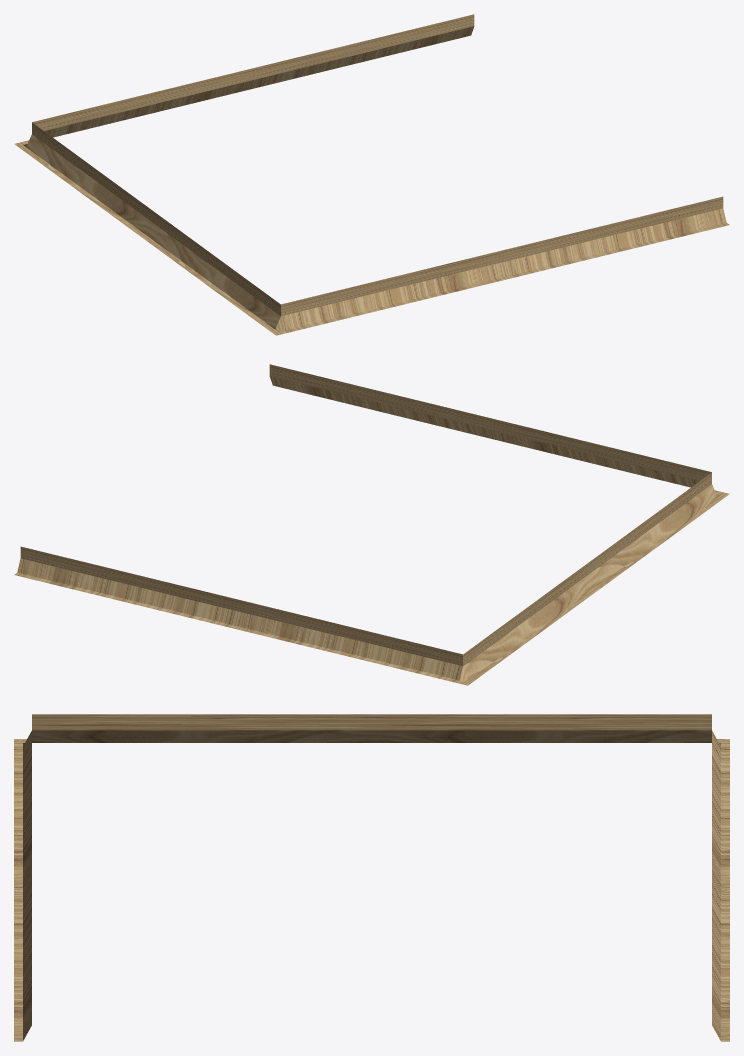
File: SkirtingBoardCeilingIndent007.FBX
The picture shows the model from 3 angles, top to bottom: view 1: azimuth 30°, elevation 25°; view 2: azimuth 150°, elevation 25°; view 3: azimuth 270°, elevation 25°; orthographic projection. The views are drawn at different scales.
Visible parts, largest first — view 1: SkirtingBoardCeilingIndent007; view 2: SkirtingBoardCeilingIndent007; view 3: SkirtingBoardCeilingIndent007.
Boxes of the visible parts, <box> form: SkirtingBoardCeilingIndent007: <box>14,14,729,335</box>; SkirtingBoardCeilingIndent007: <box>14,364,729,685</box>; SkirtingBoardCeilingIndent007: <box>14,714,729,1041</box>.
Bounding box in the file's own units: 200 × 10 × 200.
